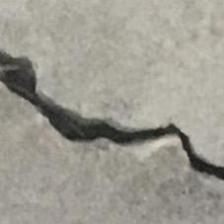Crack: (0, 46, 224, 209)
